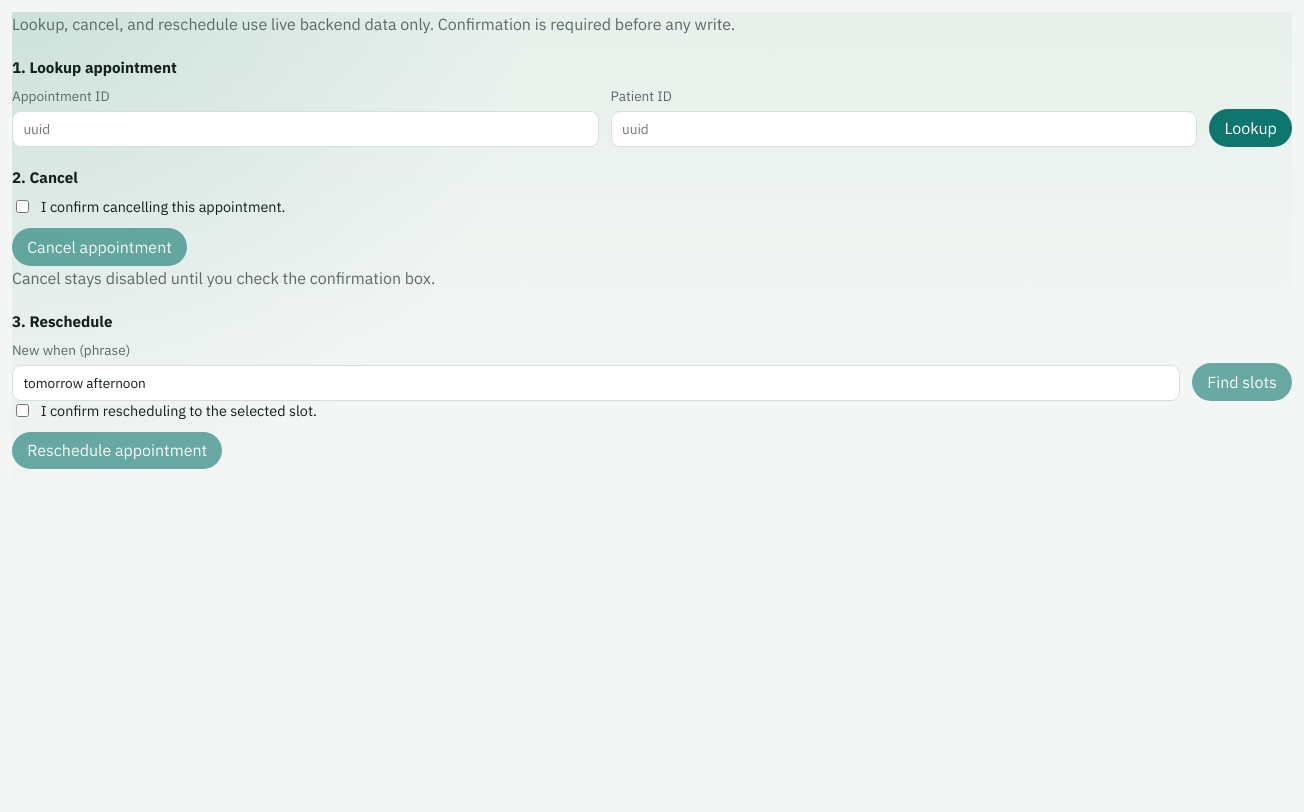
Scenario: AppointmentManagePanel (KAN-110) › TC-001 cancel with confirm sets CANCELLED from API
Step 1. Type "appt-1" into the field with test id "manage-appointment-id" → (305,129), box top-left (12, 111), bottom-right (599, 147)
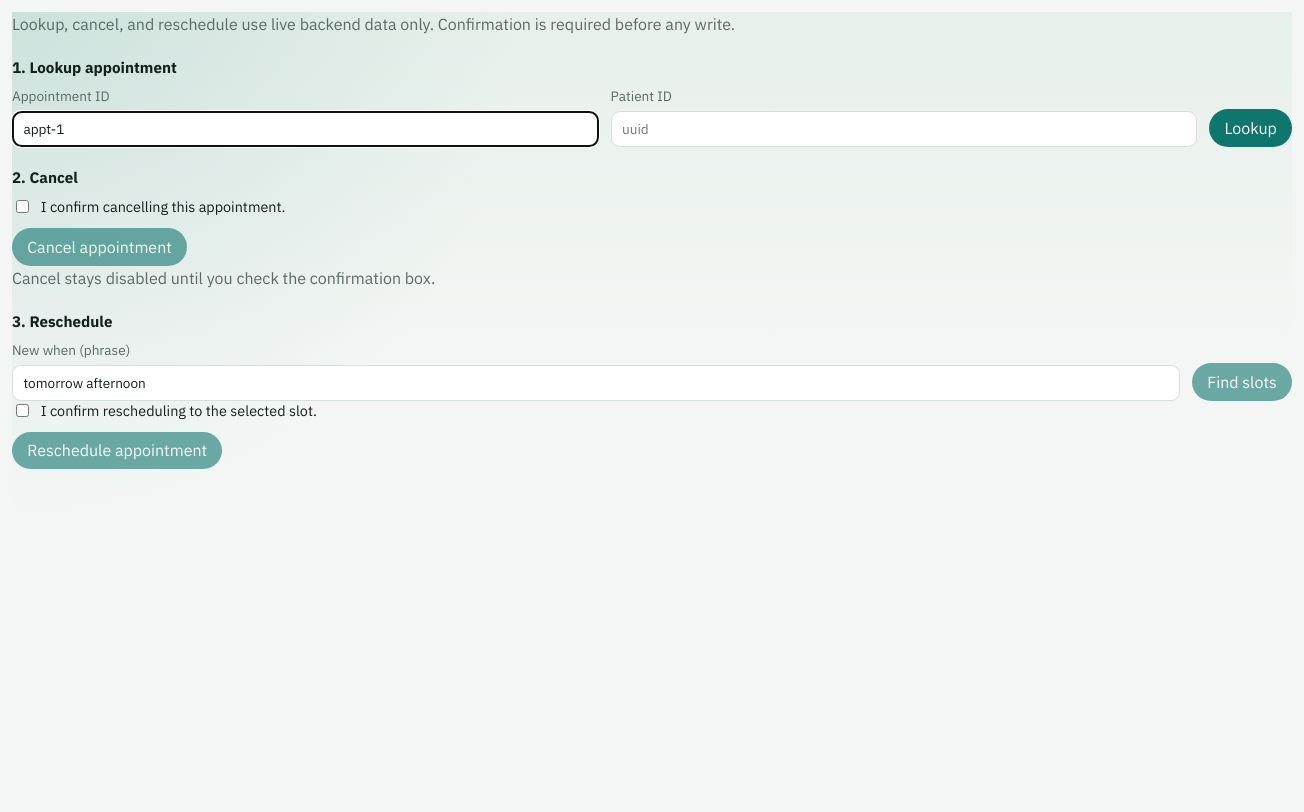
Step 2. Click the button with test id "manage-lookup" → (1251,128), box top-left (1209, 109), bottom-right (1292, 147)
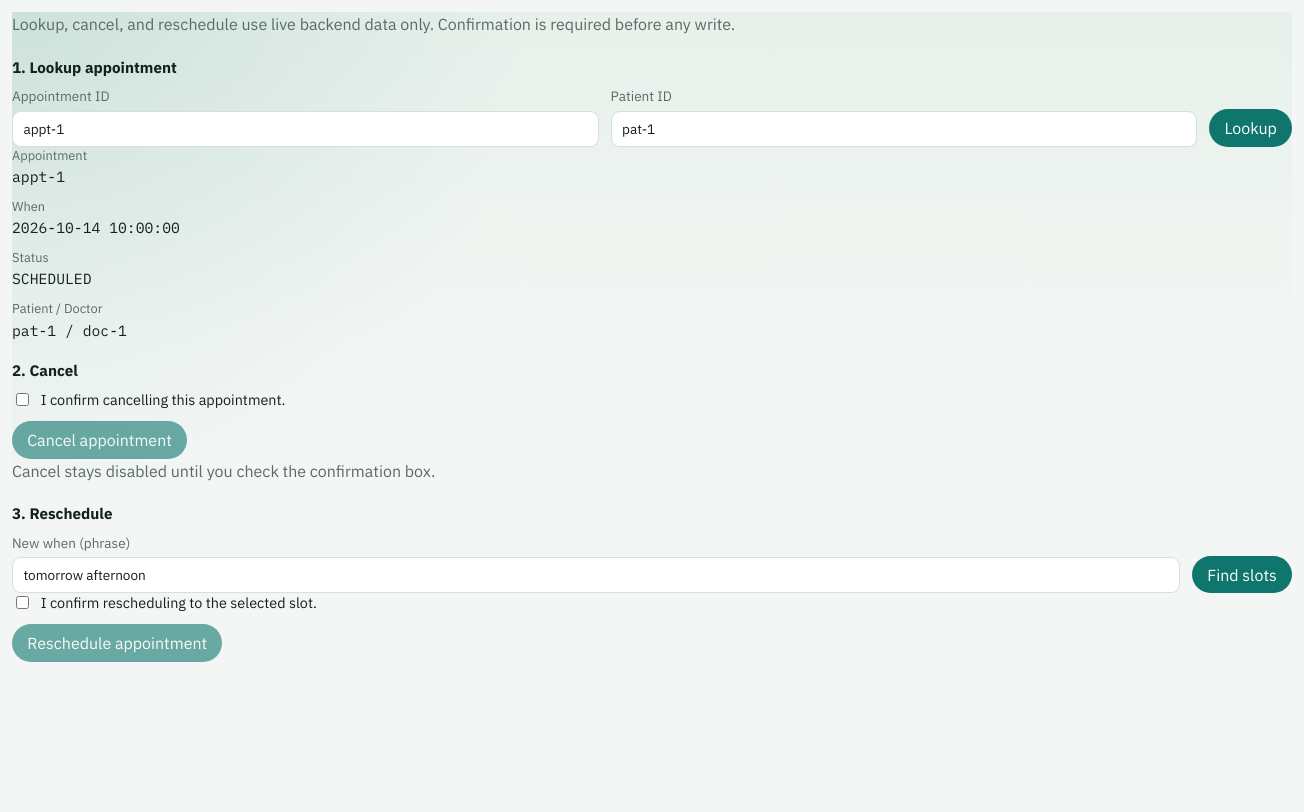
Check: the button with test id "manage-cancel" is disabled, box top-left (12, 421), bottom-right (187, 458)
Check: the text with test id "manage-selected-status" reads "SCHEDULED", box top-left (12, 269), bottom-right (92, 288)
Step 3. Click the checkbox with test id "manage-cancel-confirm" → (22,399), box top-left (16, 393), bottom-right (29, 406)
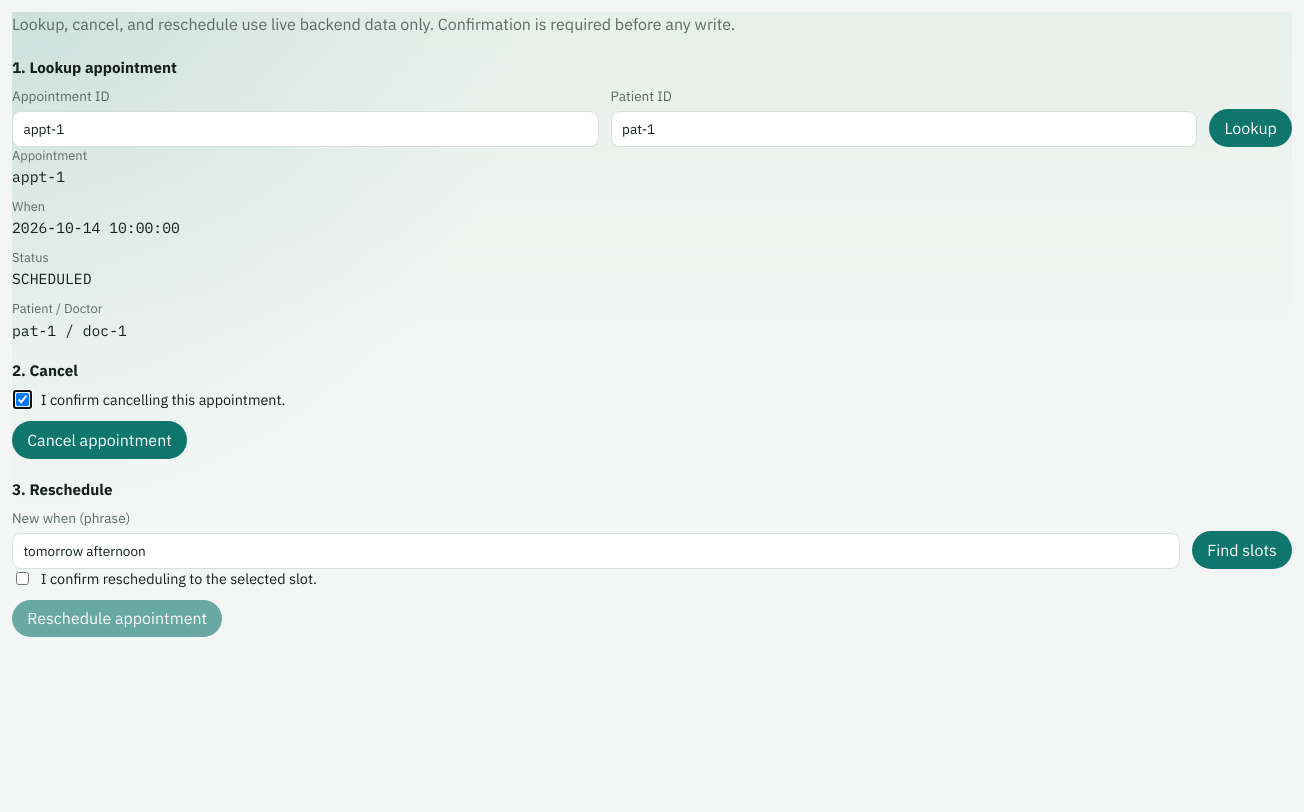
Check: the button with test id "manage-cancel" is enabled
Step 4. Click the button with test id "manage-cancel" → (100,440), box top-left (12, 421), bottom-right (187, 458)
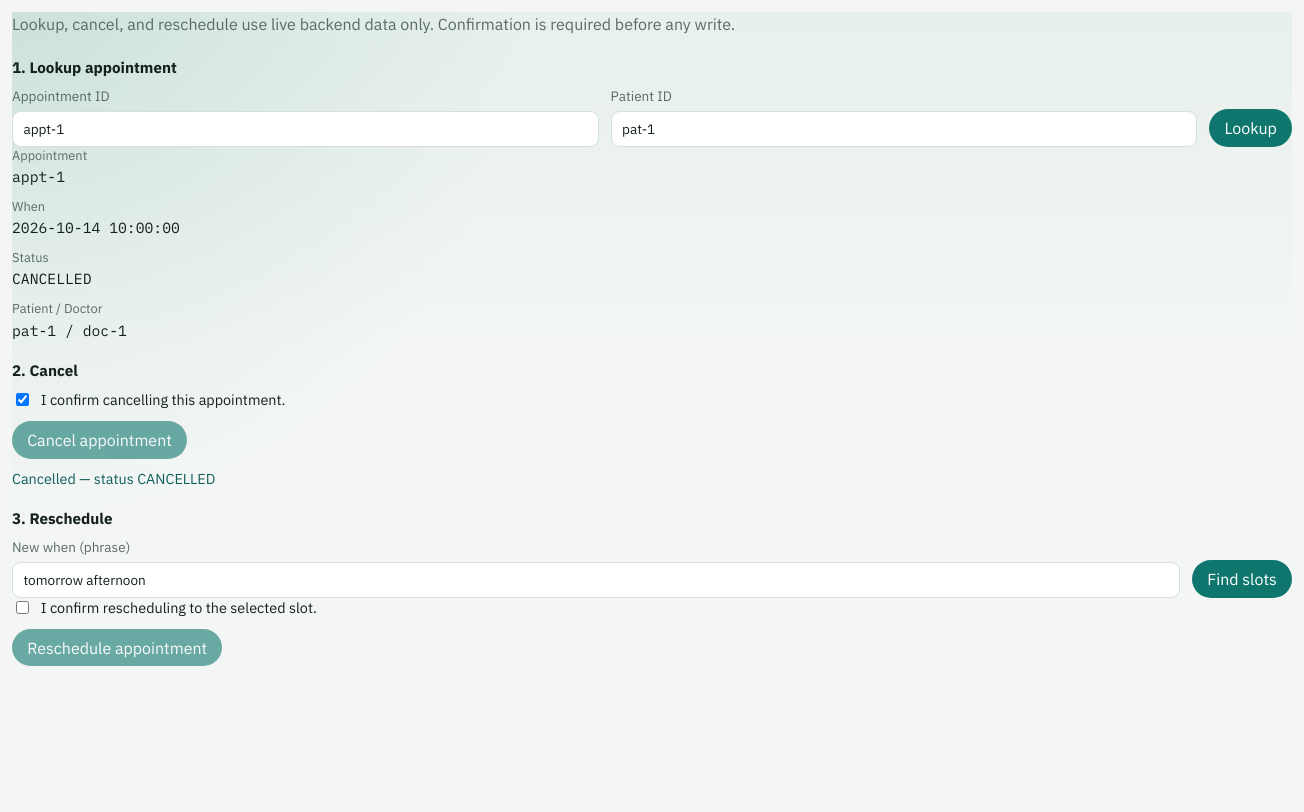
Check: the text with test id "manage-cancel-success" shows "Cancelled", box top-left (137, 469), bottom-right (215, 488)
Check: the text with test id "manage-selected-status" reads "CANCELLED", box top-left (12, 269), bottom-right (92, 288)
